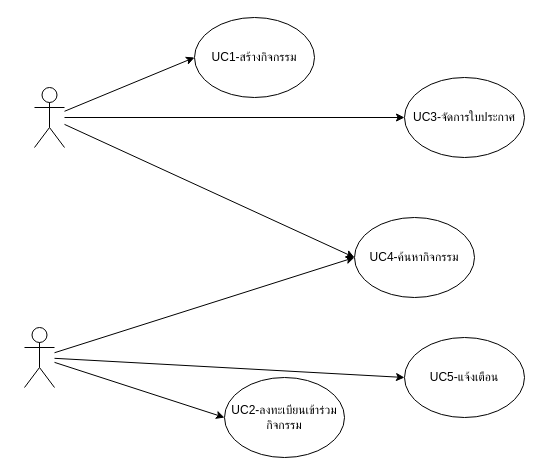
Image size: 542x475. Some labels were removed from this diagram. The box of each missing label's shape, as (x1, y1, x2, y2) in pixels:
ผู้สร้างกิจกกรม: (34, 86, 64, 148)
ผู้เข้าร่วม: (24, 326, 54, 388)
